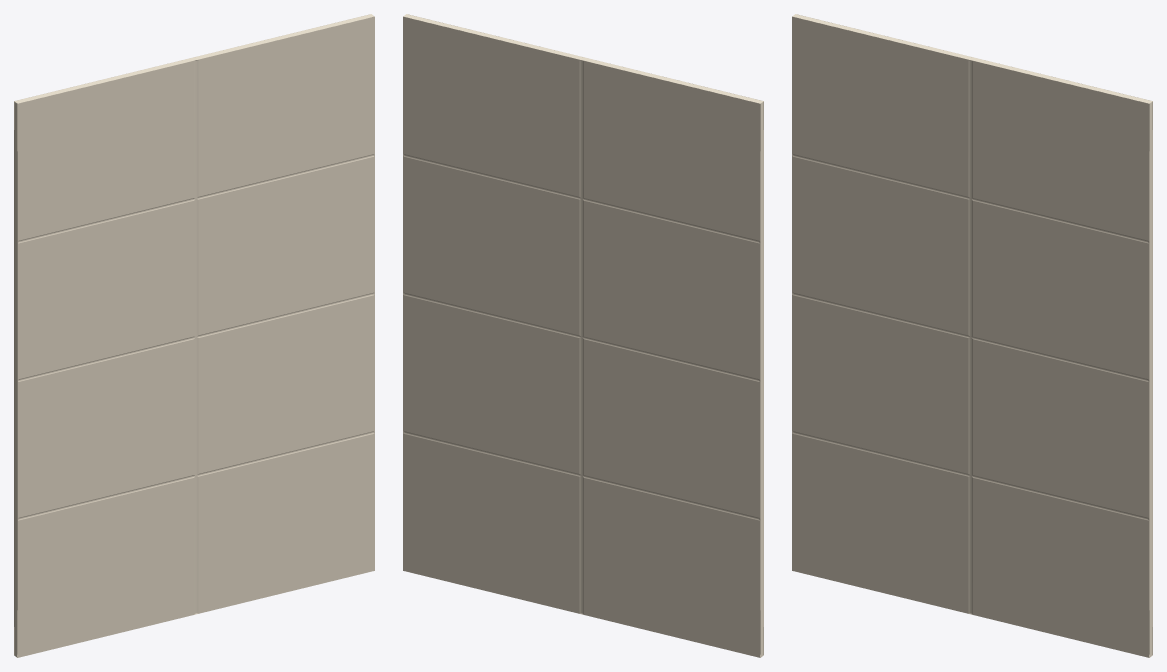
The model's file is puertabt.obj.
3 views of the same model, side by side, from view 1: azimuth 30°, elevation 25°; view 2: azimuth 150°, elevation 25°; view 3: azimuth 330°, elevation 25° (orthographic).
Parts seen in each view (by area): view 1: puertabt:doorpasted__pasted__pasted__grouppasted__pasted__groupp; view 2: puertabt:doorpasted__pasted__pasted__grouppasted__pasted__groupp; view 3: puertabt:doorpasted__pasted__pasted__grouppasted__pasted__groupp.
Boxes of the visible parts, x1,y1,x2,y2 form: puertabt:doorpasted__pasted__pasted__grouppasted__pasted__groupp: [14, 14, 374, 657]; puertabt:doorpasted__pasted__pasted__grouppasted__pasted__groupp: [403, 14, 763, 657]; puertabt:doorpasted__pasted__pasted__grouppasted__pasted__groupp: [792, 14, 1152, 657].
Bounding box in the file's own units: 22.92 × 33.96 × 0.4.
